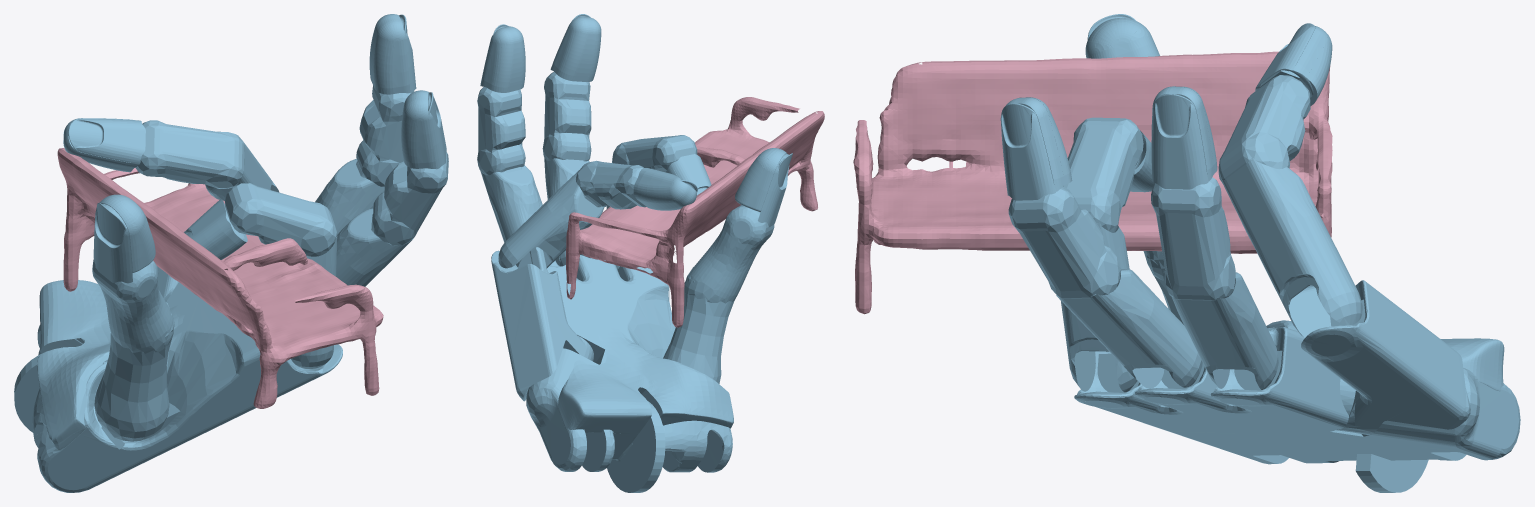
The picture shows the model from 3 angles, left to right: view 1: azimuth 30°, elevation 25°; view 2: azimuth 150°, elevation 25°; view 3: azimuth 270°, elevation 25°; orthographic projection. The views are drawn at different scales.
Parts seen in each view (by area): view 1: hand_isaac_q, world; view 2: hand_isaac_q, world; view 3: hand_isaac_q, world.
Part boxes in pixels (box(x1,y1,x2,y2)): hand_isaac_q: box(14, 14, 448, 492); world: box(57, 148, 383, 408); hand_isaac_q: box(477, 14, 792, 492); world: box(566, 97, 824, 327); hand_isaac_q: box(1000, 14, 1520, 492); world: box(853, 51, 1332, 314).
Bounding box in the file's own units: 0.135 × 0.1644 × 0.1826.
